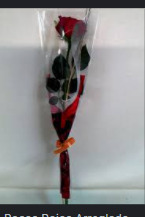RedRose: (41, 18, 98, 45)
